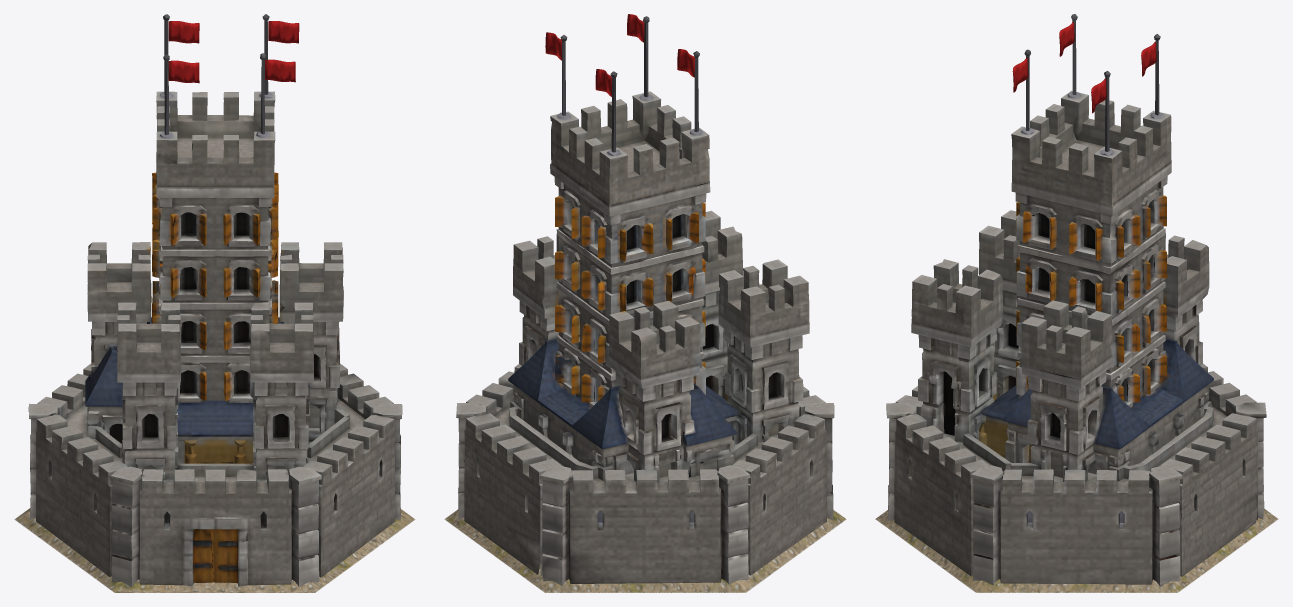
File: kingdom.glb
3 views of the same model, side by side, from view 1: azimuth 30°, elevation 25°; view 2: azimuth 150°, elevation 25°; view 3: azimuth 270°, elevation 25° (orthographic).
Visible parts, largest first — view 1: architecture, ground, order-cloth; view 2: architecture, ground, order-cloth; view 3: architecture, ground, order-cloth.
Part boxes in pixels (x1,y1,x2,y2): architecture: [28, 14, 402, 586]; ground: [14, 508, 415, 592]; order-cloth: [168, 21, 299, 83]; architecture: [456, 16, 834, 585]; ground: [444, 509, 846, 592]; order-cloth: [545, 14, 694, 96]; architecture: [886, 14, 1266, 586]; ground: [875, 509, 1278, 592]; order-cloth: [1012, 21, 1156, 113].
Bounding box in the file's own units: 1.59 × 2.42 × 1.84.
Materials: 3 (3 with a texture image).
